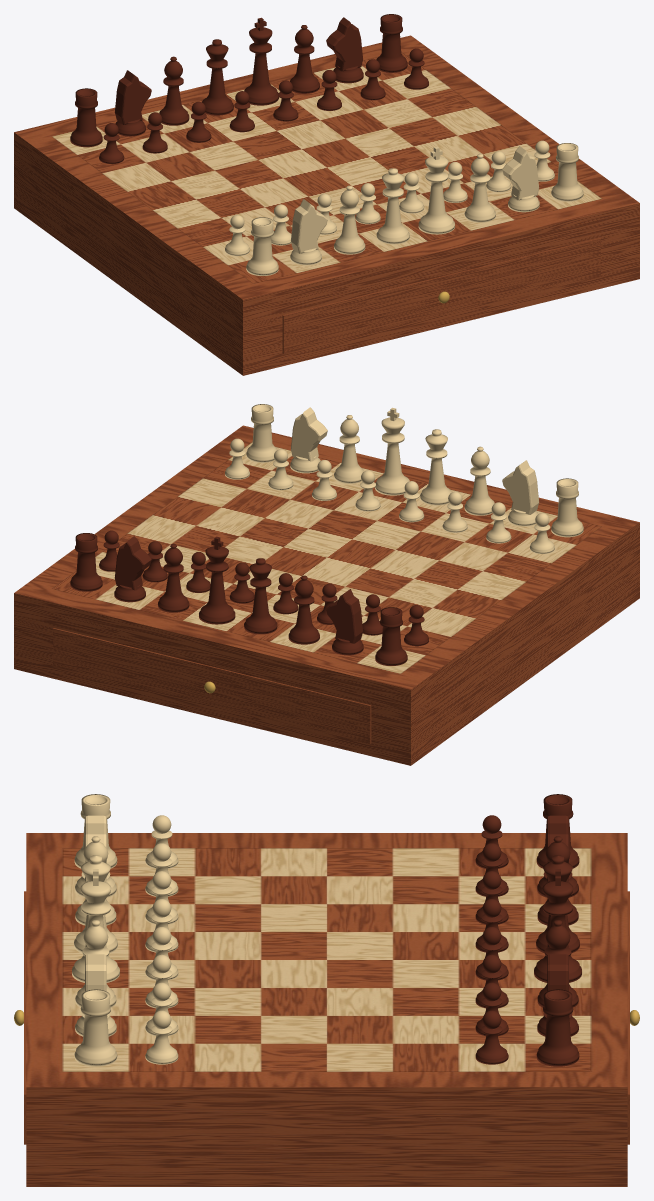
File: philidor-3d-erable-magnetique-41.glb
3 renders of one model, top to bottom at view 1: azimuth 30°, elevation 25°; view 2: azimuth 150°, elevation 25°; view 3: azimuth 270°, elevation 25°, orthographic. The views are drawn at different scales.
Visible parts, largest first — view 1: erable-magnetique-41; view 2: erable-magnetique-41; view 3: erable-magnetique-41.
Boxes of the visible parts, bbox=[...] form: erable-magnetique-41: bbox=[14, 14, 639, 375]; erable-magnetique-41: bbox=[14, 404, 639, 765]; erable-magnetique-41: bbox=[14, 794, 639, 1186].
Size of what is drawn, in the model's own units: 0.41 by 0.153 by 0.4267.
Materials: 6 (3 with a texture image).
